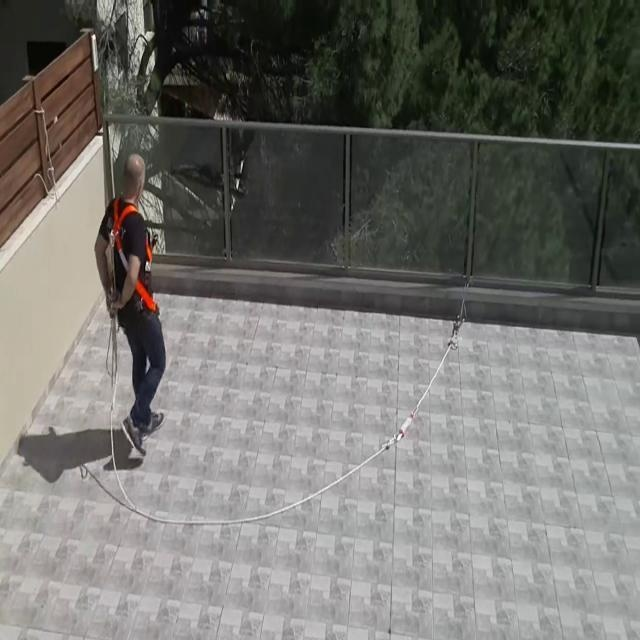Arnes_seguridad: (105, 197, 158, 316)
